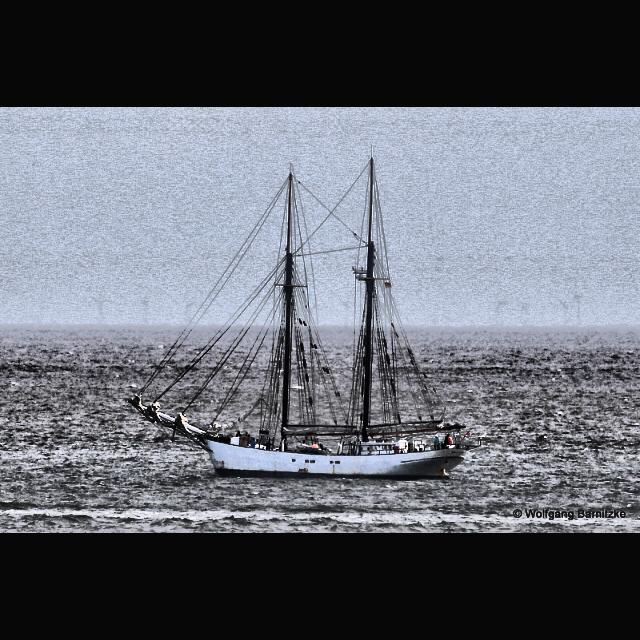sailing_vessel: (127, 142, 481, 482)
